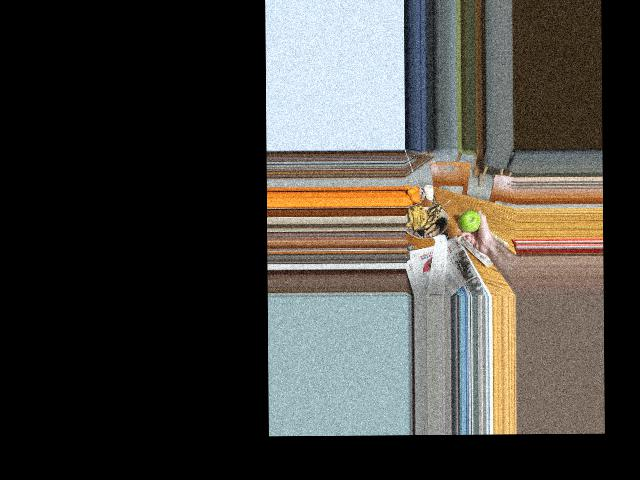apple: (460, 208, 482, 233)
